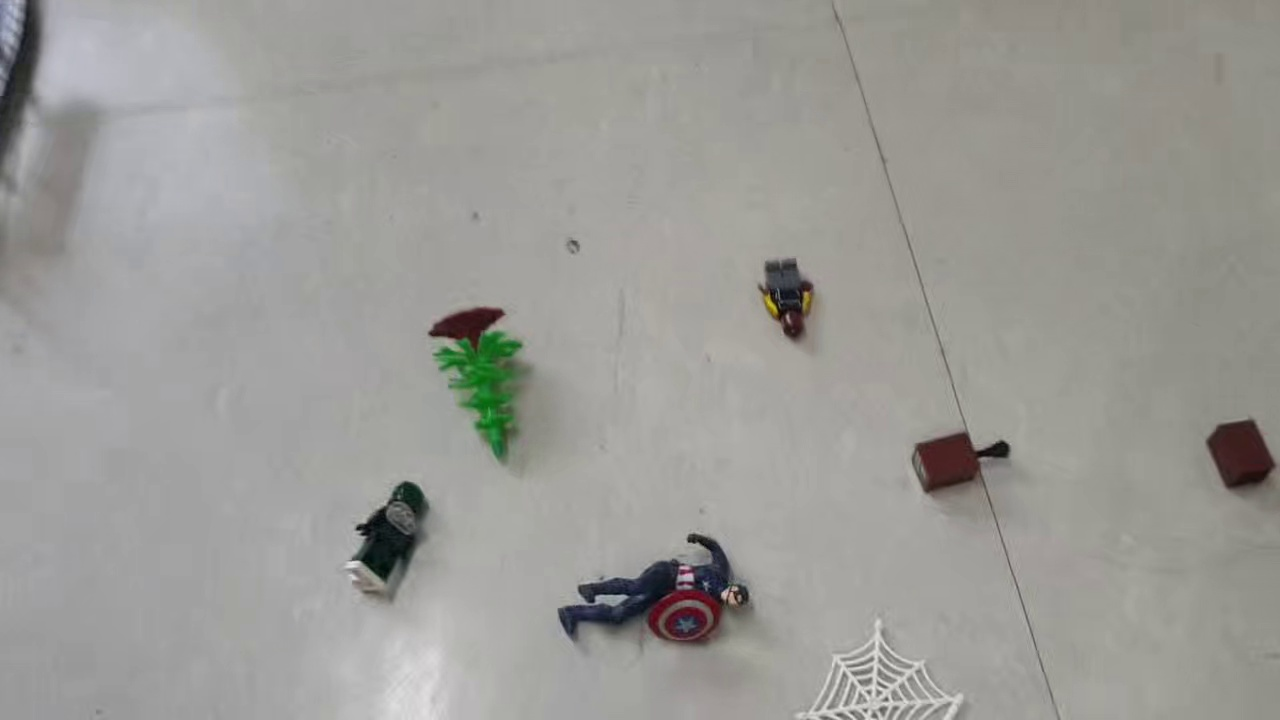box: (908, 431, 1013, 496), (1204, 416, 1279, 493)
people: (556, 531, 753, 649), (344, 478, 438, 599), (752, 256, 821, 347)
tree: (427, 303, 538, 467)
web: (786, 614, 969, 720)
